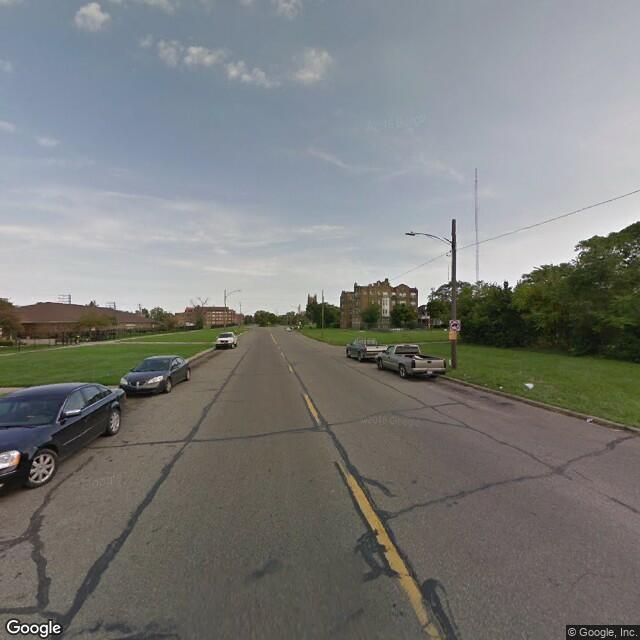litter: (524, 381, 534, 390), (586, 415, 594, 423), (497, 385, 505, 392)
